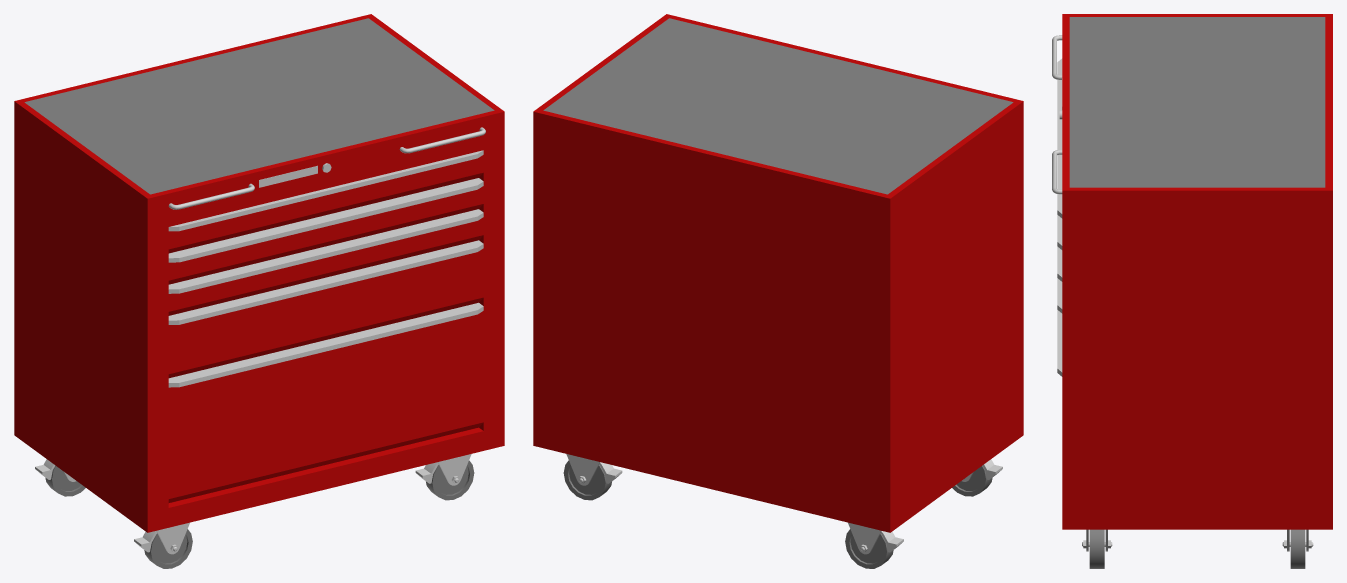
File: Toolbox.glb
3 views of the same model, side by side, from view 1: azimuth 30°, elevation 25°; view 2: azimuth 150°, elevation 25°; view 3: azimuth 270°, elevation 25° (orthographic).
Visible parts, largest first — view 1: Mesh9 Group2 UC_091_1 Model, Mesh45 Group7 UC_091_1 Model, Mesh44 Group7 UC_091_1 Model, Mesh42 Group7 UC_091_1 Model, Mesh43 Group7 UC_091_1 Model, Mesh41 Group7 UC_091_1 Model, Mesh34 Group6 UC_091_1 Model, Mesh37 Group6 UC_091_1 Model, Mesh33 Group6 UC_091_1 Model, Mesh38 Group6 UC_091_1 Model, Mesh32 Group6 UC_091_1 Model, Mesh29 Group5 UC_091_1 Model (+2 smaller); view 2: Mesh9 Group2 UC_091_1 Model, Mesh22 Group4 UC_091_1 Model, Mesh5 Group1 UC_091_1 Model, Mesh15 Group3 UC_091_1 Model; view 3: Mesh9 Group2 UC_091_1 Model, Mesh32 Group6 UC_091_1 Model, Mesh29 Group5 UC_091_1 Model, Mesh22 Group4 UC_091_1 Model, Mesh34 Group6 UC_091_1 Model.
Part boxes in pixels (x1,y1,x2,y2): Mesh9 Group2 UC_091_1 Model: (14, 14, 504, 532); Mesh45 Group7 UC_091_1 Model: (168, 311, 483, 502); Mesh44 Group7 UC_091_1 Model: (168, 248, 483, 378); Mesh42 Group7 UC_091_1 Model: (168, 217, 483, 315); Mesh43 Group7 UC_091_1 Model: (168, 186, 483, 284); Mesh41 Group7 UC_091_1 Model: (168, 155, 483, 253); Mesh34 Group6 UC_091_1 Model: (168, 302, 483, 387); Mesh37 Group6 UC_091_1 Model: (168, 178, 483, 262); Mesh33 Group6 UC_091_1 Model: (168, 209, 483, 293); Mesh38 Group6 UC_091_1 Model: (168, 240, 483, 324); Mesh32 Group6 UC_091_1 Model: (168, 150, 483, 231); Mesh29 Group5 UC_091_1 Model: (426, 460, 474, 500); Mesh9 Group2 UC_091_1 Model: (533, 14, 1023, 532); Mesh22 Group4 UC_091_1 Model: (563, 460, 611, 500); Mesh5 Group1 UC_091_1 Model: (845, 529, 893, 568); Mesh15 Group3 UC_091_1 Model: (952, 465, 992, 496); Mesh9 Group2 UC_091_1 Model: (1062, 14, 1332, 529); Mesh32 Group6 UC_091_1 Model: (1057, 58, 1062, 218); Mesh29 Group5 UC_091_1 Model: (1089, 529, 1104, 568); Mesh22 Group4 UC_091_1 Model: (1290, 529, 1305, 568); Mesh34 Group6 UC_091_1 Model: (1057, 310, 1062, 376).
Size of the model in its own units: 0.85 by 0.885 by 0.5705.
